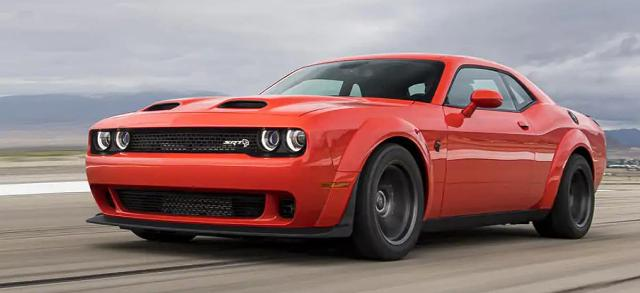dodge: (85, 52, 607, 262)
